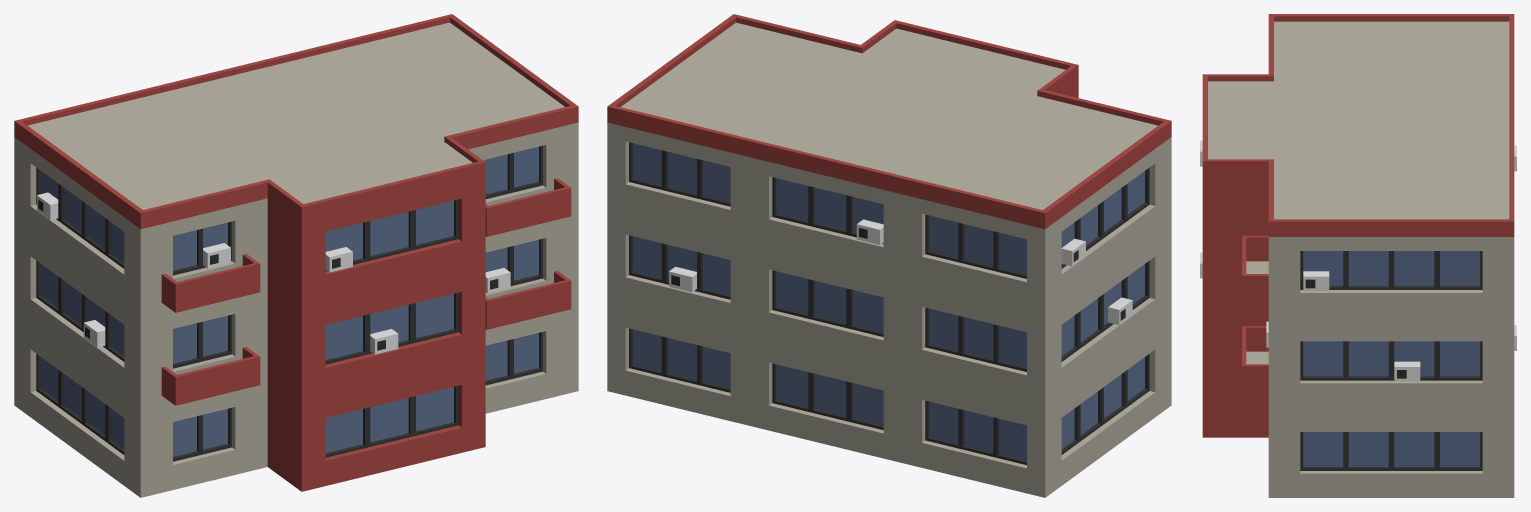
The model's file is Apartment_v1.fbx.
3 renders of one model, left to right at view 1: azimuth 30°, elevation 25°; view 2: azimuth 150°, elevation 25°; view 3: azimuth 270°, elevation 25°, orthographic. The views are drawn at different scales.
Visible parts, largest first — view 1: Apartment; view 2: Apartment; view 3: Apartment.
Part boxes in pixels (x1,y1,x2,y2): Apartment: (14, 14, 578, 497); Apartment: (607, 14, 1171, 497); Apartment: (1200, 14, 1516, 497).
Bounding box in the file's own units: 1455 × 894 × 929.
